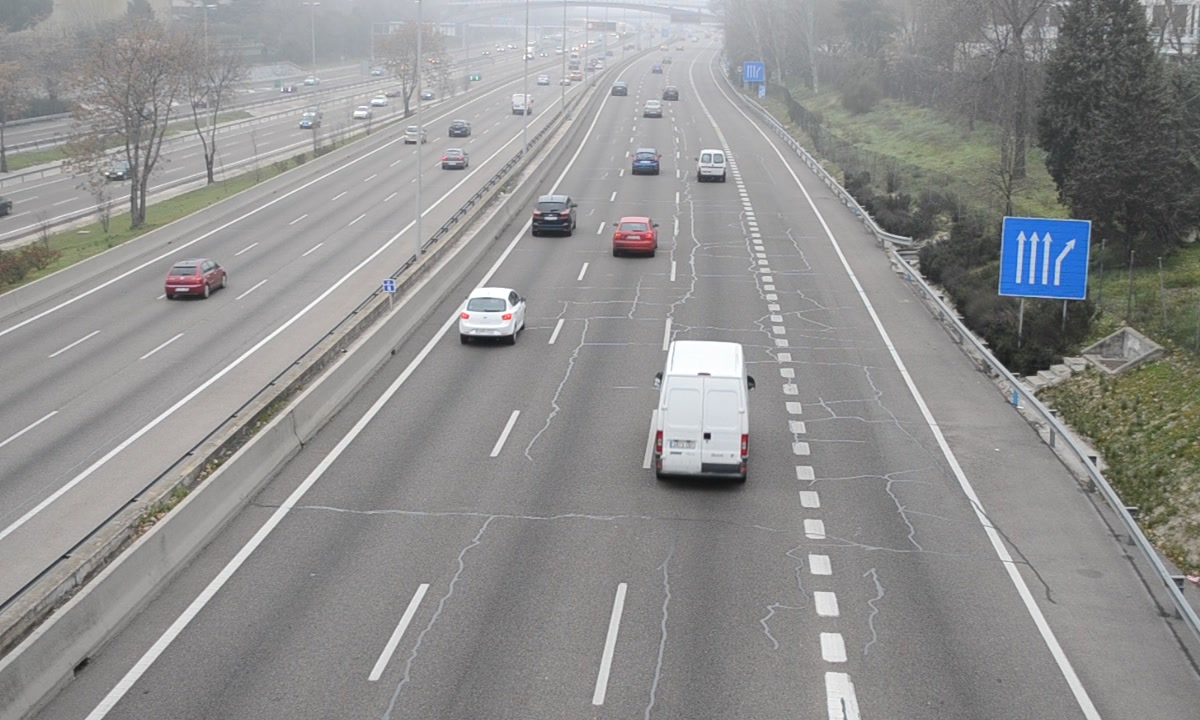car: (459, 288, 524, 337), (531, 194, 575, 234), (612, 217, 657, 256), (632, 148, 661, 176)
van: (654, 341, 750, 480), (697, 148, 729, 185)
